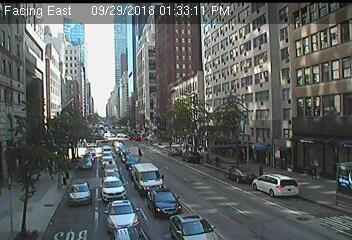car: (169, 213, 219, 240), (252, 173, 300, 199), (105, 200, 141, 230), (132, 162, 165, 194), (147, 188, 182, 218), (100, 177, 128, 201), (224, 166, 257, 184), (67, 183, 92, 205), (181, 151, 204, 164), (104, 169, 122, 182), (124, 155, 140, 168), (79, 159, 93, 170), (166, 147, 181, 156), (103, 162, 118, 171), (101, 152, 113, 161), (83, 152, 94, 160)
